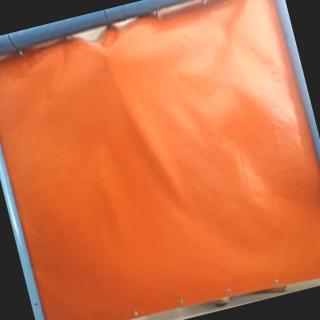Hit-hRxx: (98, 45, 116, 62)
